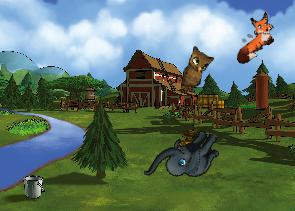elephant: (142, 113, 226, 201)
fox: (222, 8, 284, 67)
owl: (180, 45, 215, 96)
